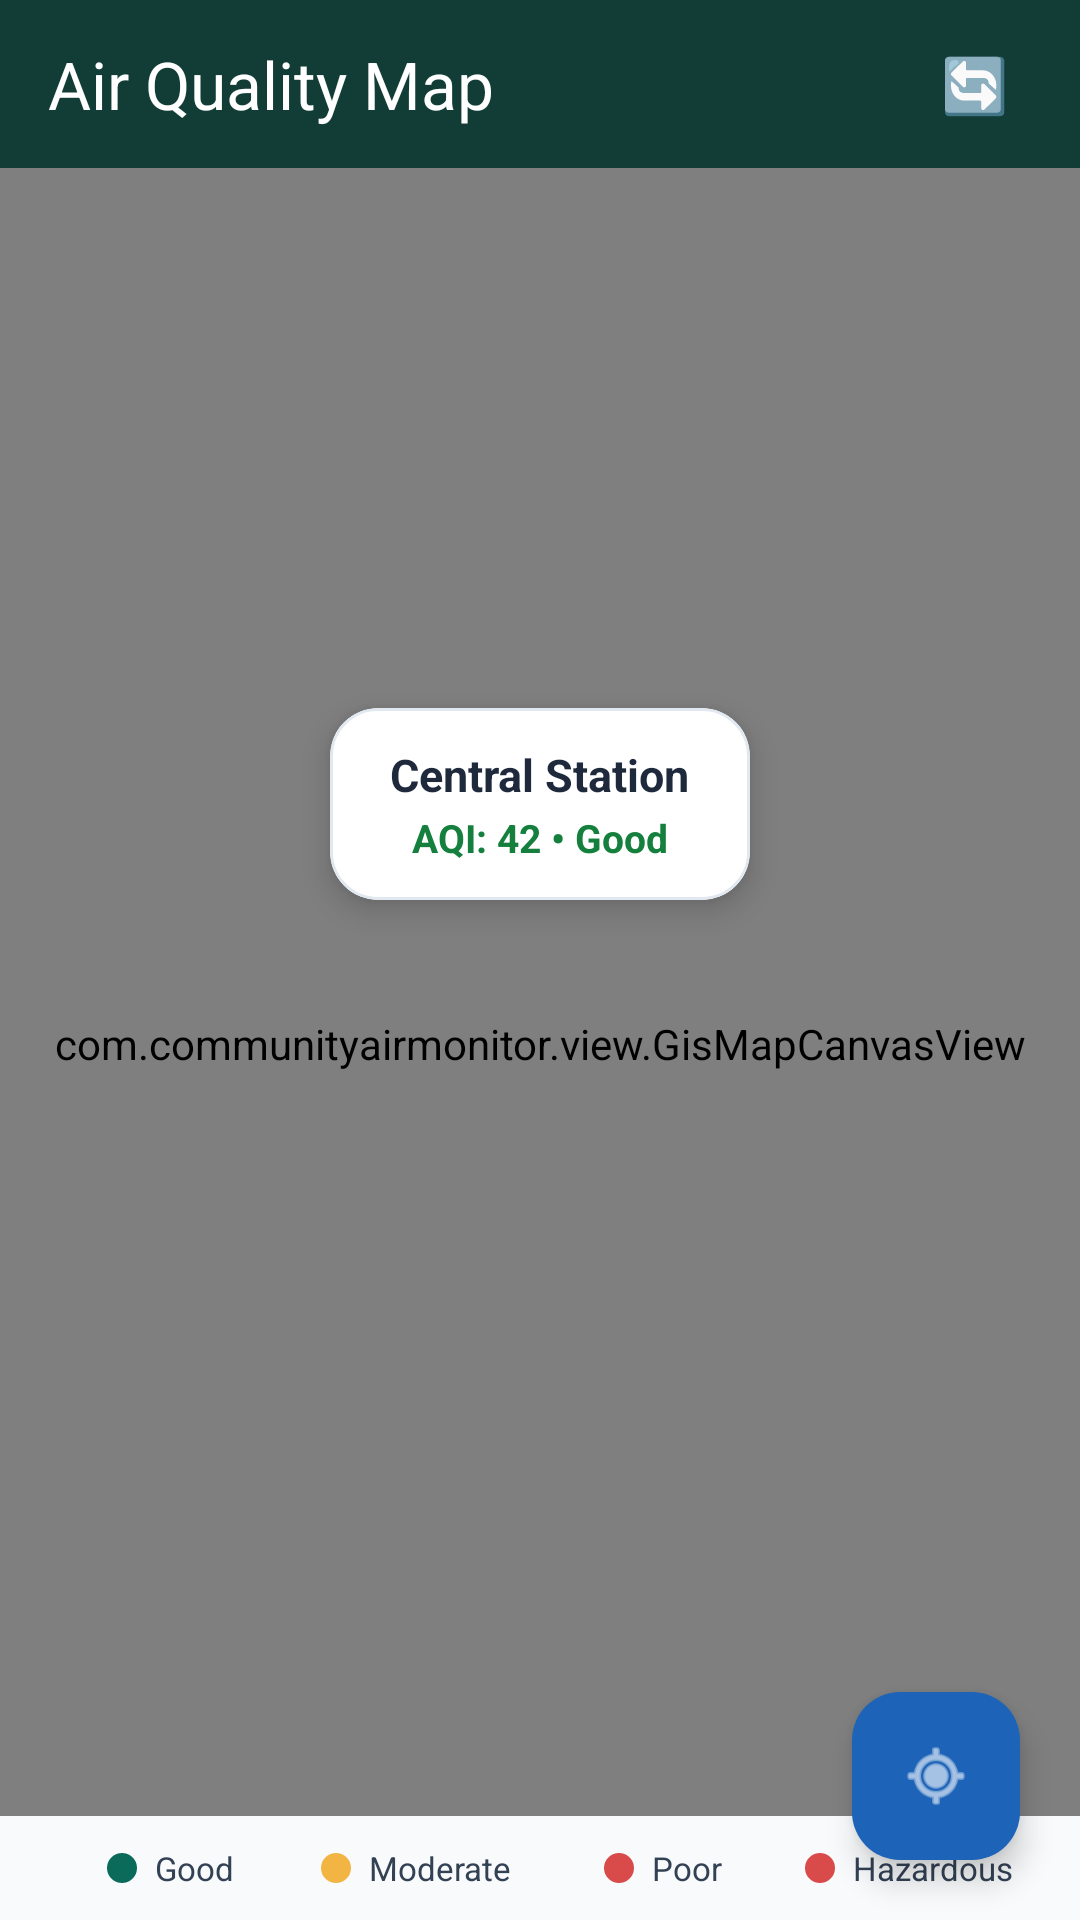

Icon bounding boxes for this 1080x1920 phone screenshot, format [x1=x1, y1=y1, x2=x2, y2=y2]:
Center on location: [x1=852, y1=1692, x2=1020, y2=1860]
